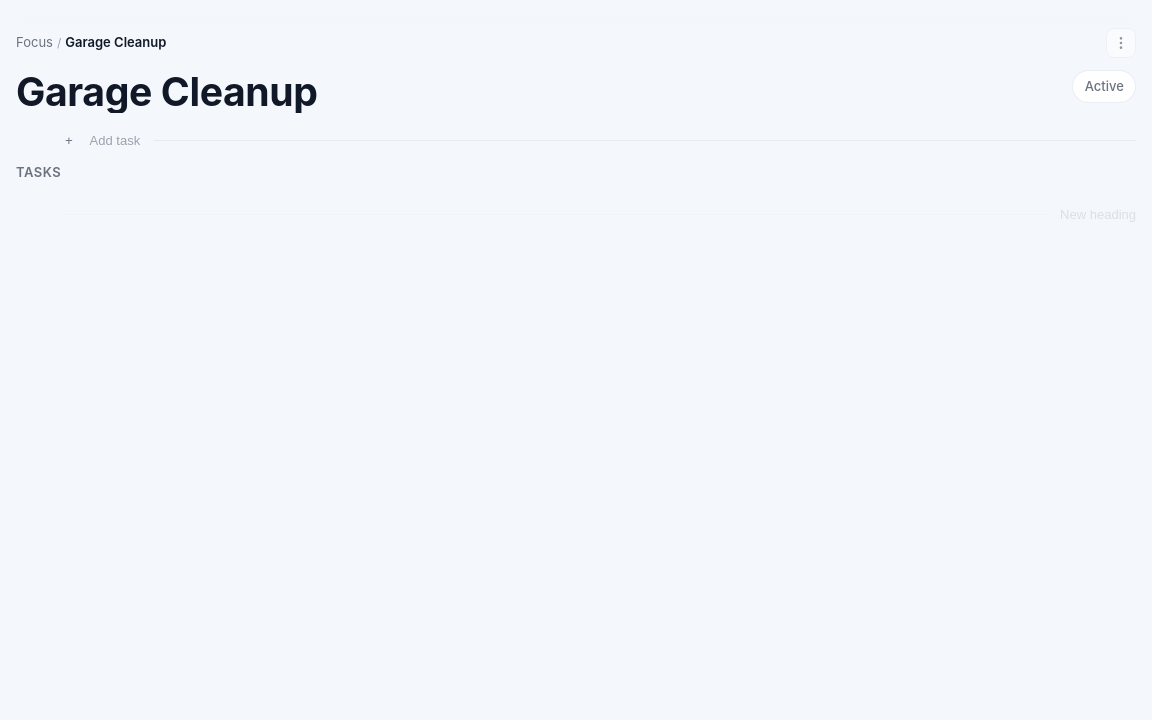
ProjectEditorView › hides project settings behind the menu button
Expected: the text "Description" is not shown
Click the button named "project actions": (1121, 43) top-left (1106, 28), bottom-right (1136, 58)
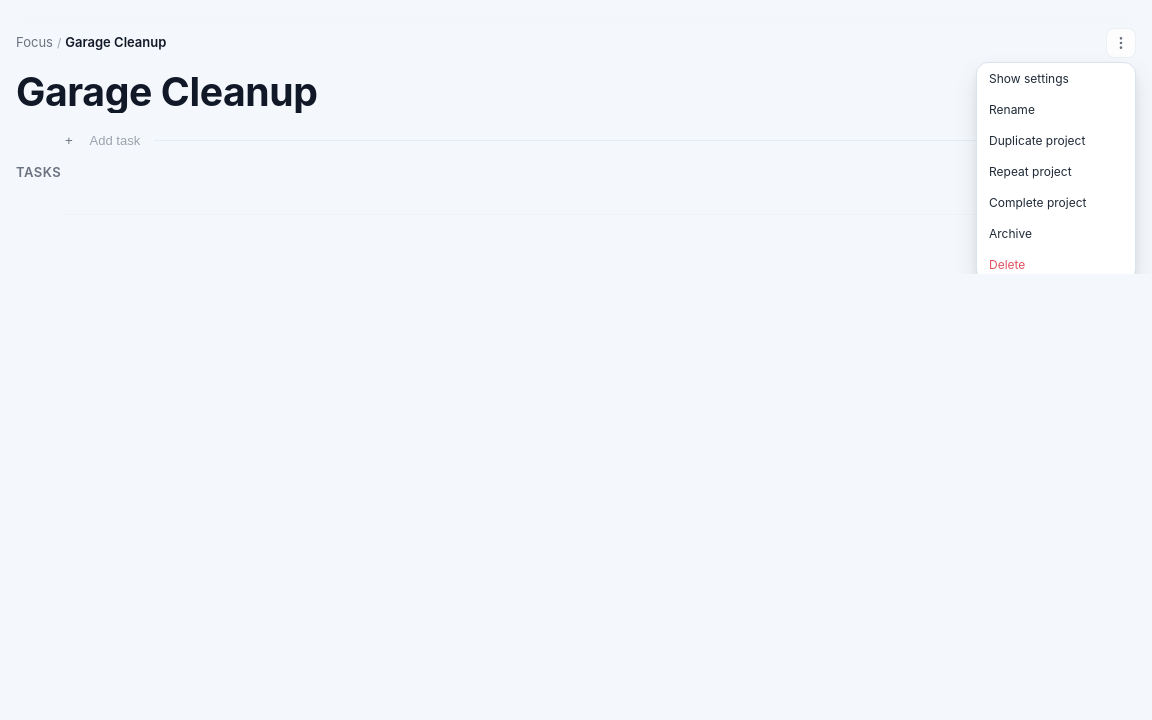
Click the menu item "Show settings": (1056, 78) top-left (977, 63), bottom-right (1135, 94)
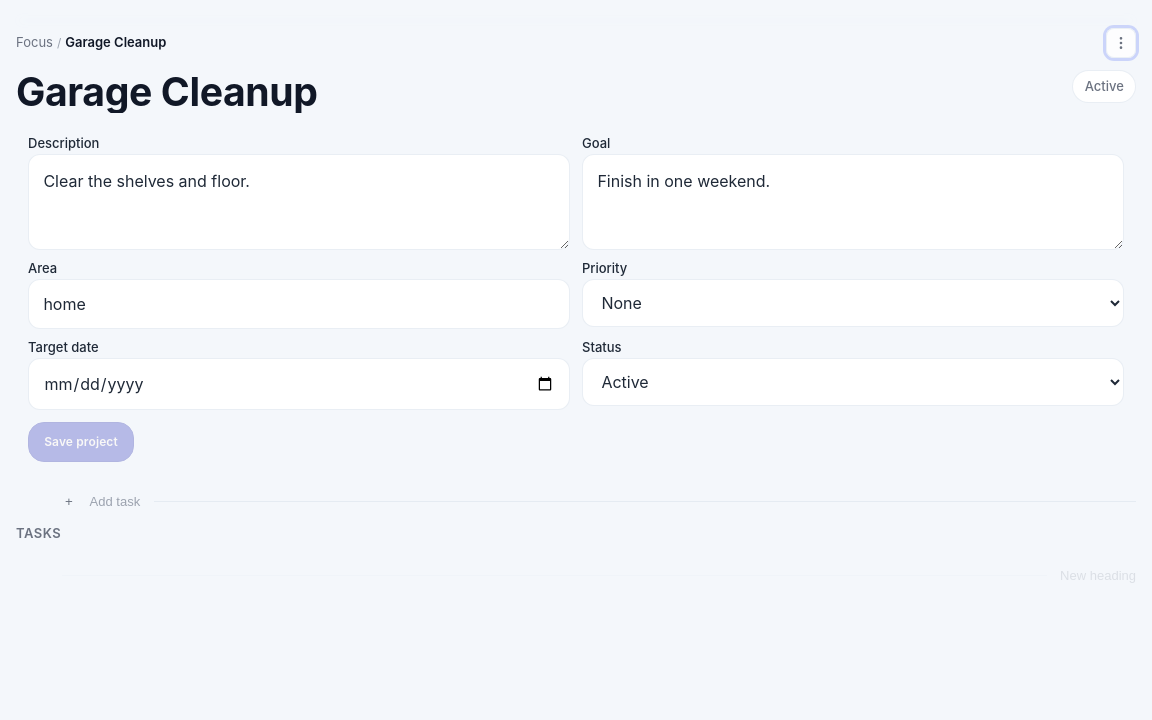
Now the text "Description" is shown, box top-left (28, 135), bottom-right (99, 151)
Now the button "Save project" is shown, box top-left (28, 422), bottom-right (134, 462)
